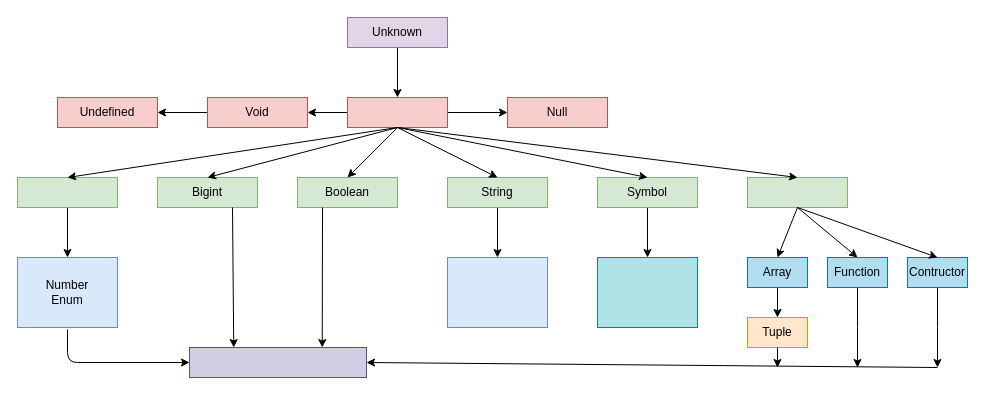
This 985x395 diagram has some shape labels left out. Each missing label, with the centre of its shape:
Any: pixel 397 112
Never: pixel 277 362
Number: pixel 67 192
Object: pixel 797 192
String Enum: pixel 497 292
Unique Symbol: pixel 647 292
